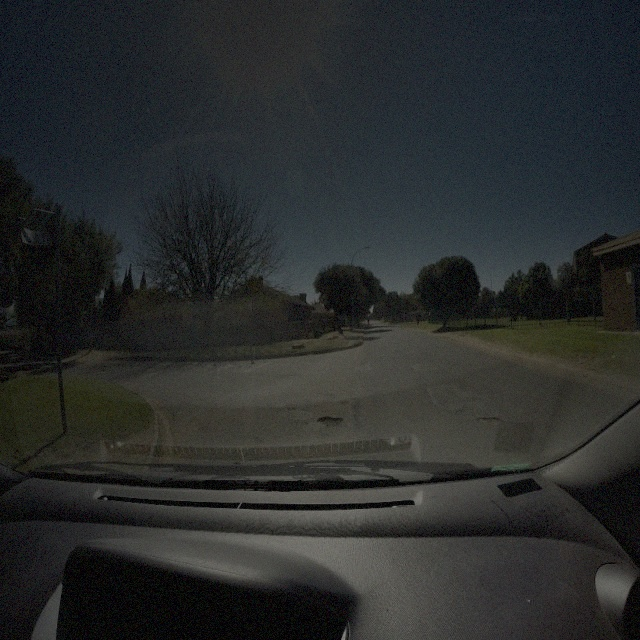pothole: (474, 412, 502, 427), (315, 413, 342, 428)
